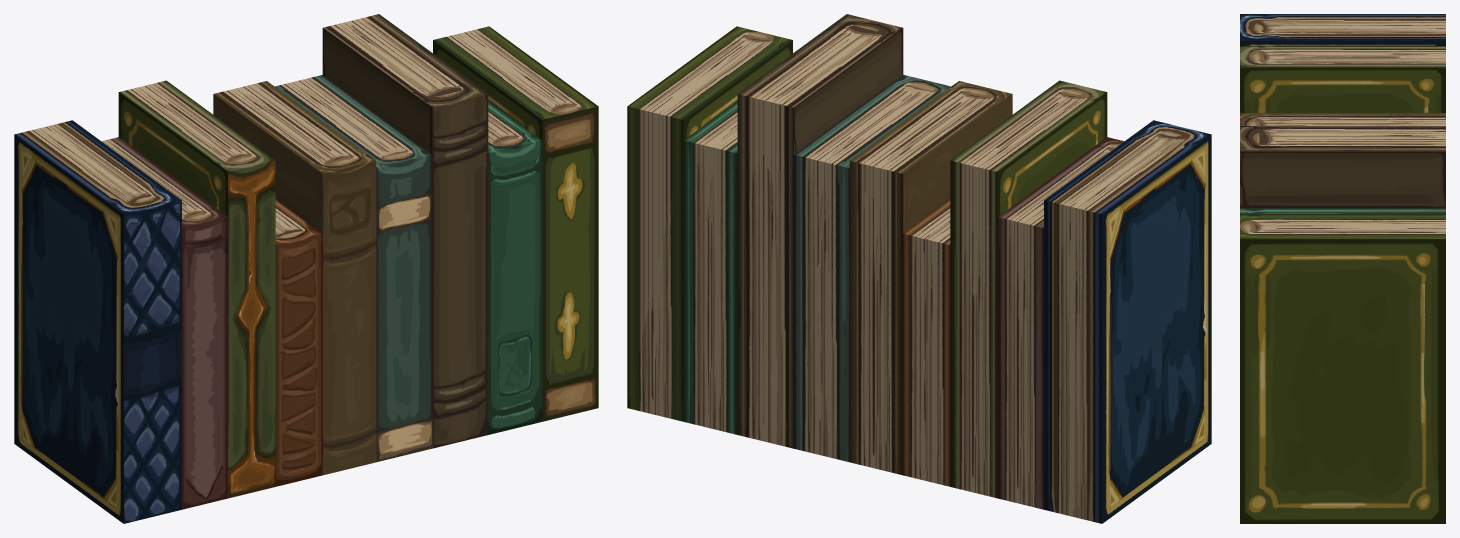
File: SM_PROP_book_dungeon_09.fbx
3 views of the same model, side by side, from view 1: azimuth 30°, elevation 25°; view 2: azimuth 150°, elevation 25°; view 3: azimuth 270°, elevation 25° (orthographic). The views are drawn at different scales.
Visible parts, largest first — view 1: SM_PROP_book_dungeon_09; view 2: SM_PROP_book_dungeon_09; view 3: SM_PROP_book_dungeon_09.
Boxes of the visible parts, <box> form: SM_PROP_book_dungeon_09: <box>14,14,598,523</box>; SM_PROP_book_dungeon_09: <box>627,14,1211,523</box>; SM_PROP_book_dungeon_09: <box>1240,14,1445,523</box>.
Bounding box in the file's own units: 52.15 × 35.79 × 20.79.
